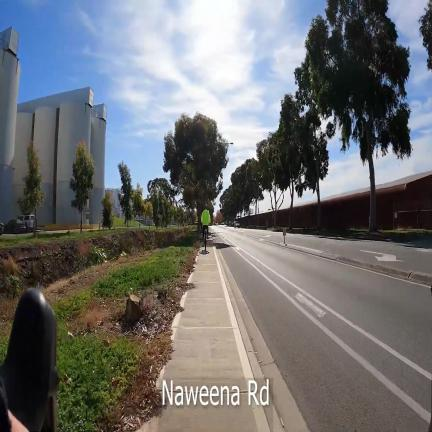Bike_Lane: (223, 250, 426, 432)
